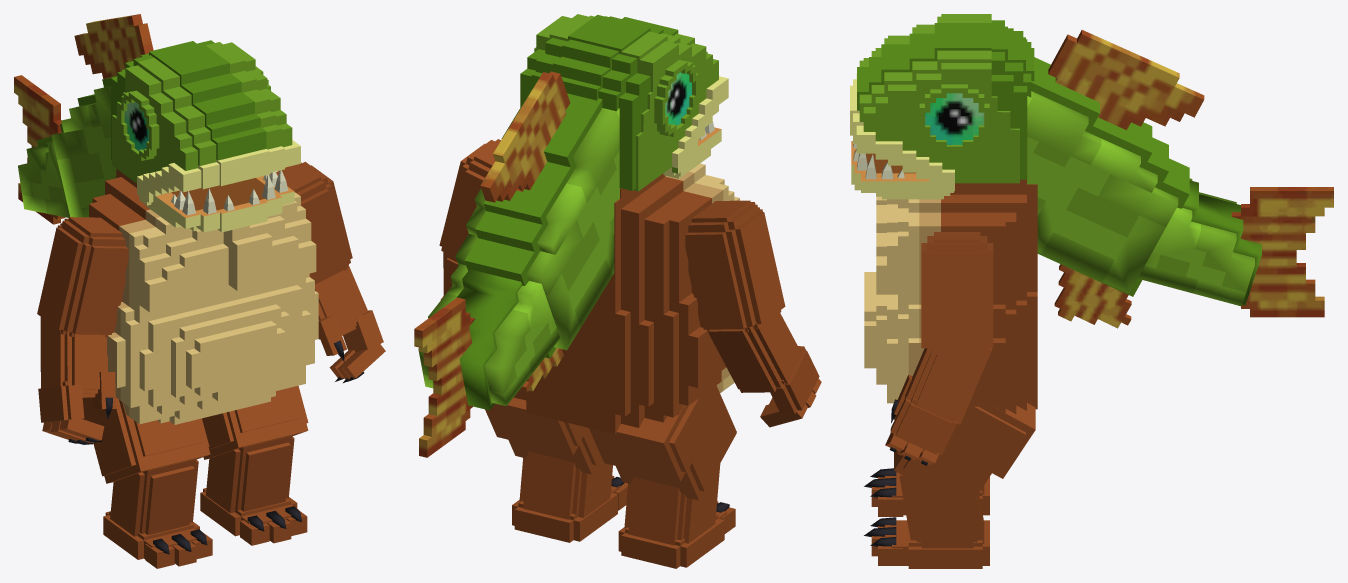
Rendered from trippiTroppiTroppa.fbx.
The picture shows the model from 3 angles, left to right: view 1: azimuth 30°, elevation 25°; view 2: azimuth 150°, elevation 25°; view 3: azimuth 270°, elevation 25°; orthographic projection. The views are drawn at different scales.
Visible parts, largest first — view 1: trippiTroppiTroppa; view 2: trippiTroppiTroppa; view 3: trippiTroppiTroppa.
Part boxes in pixels (box(x1,y1,x2,y2)): trippiTroppiTroppa: box(14, 14, 385, 568); trippiTroppiTroppa: box(414, 14, 821, 568); trippiTroppiTroppa: box(850, 14, 1333, 568).
Size of the model in its own units: 658 by 896 by 793.
